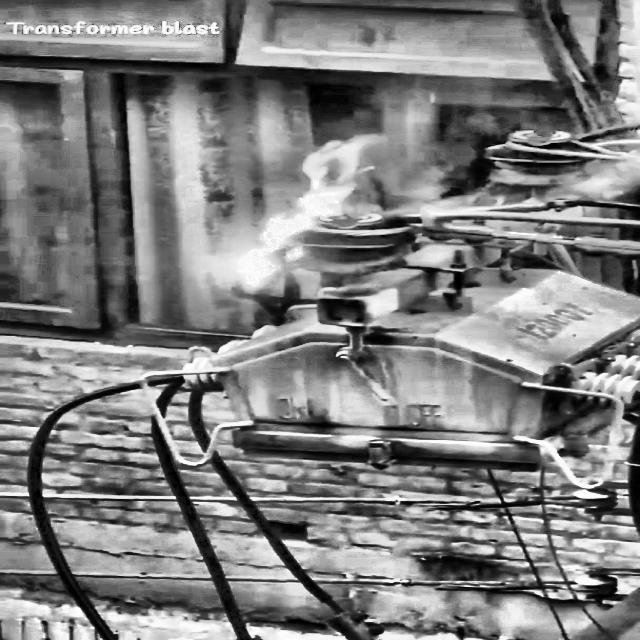Fire: (185, 122, 394, 302)
